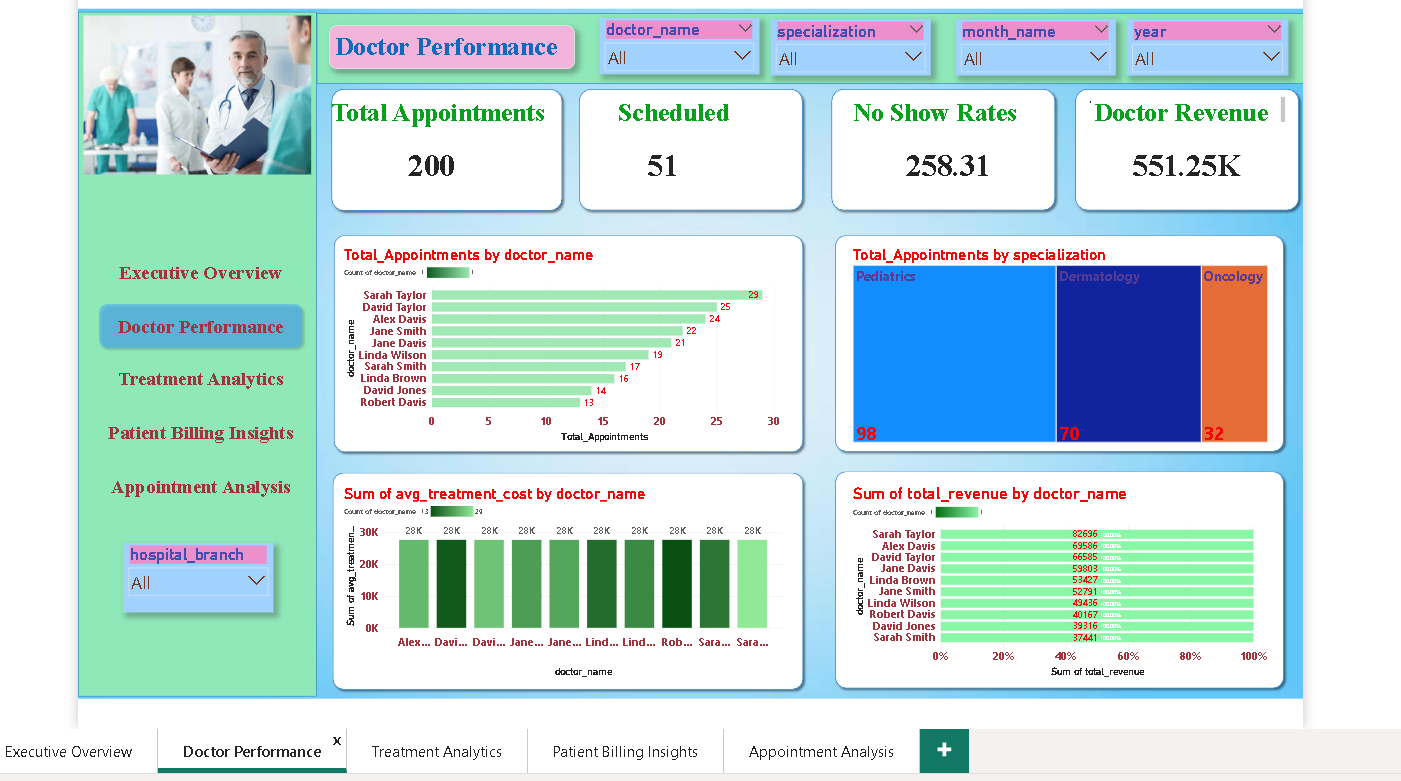

The dashboard page shown, as its layout file describes it:
{"tool":"powerbi","page":{"name":"Doctor Performance","canvas":[2300,1400],"ordinal":1},"visuals":[{"type":"shape","box":[0,53.7,447.7,1285],"z":0},{"type":"actionButton","box":[30.1,491.6,400,100.2],"z":0,"group":"g1"},{"type":"group","id":"g1","title":"Group 1","box":[30.1,491.6,400,500],"z":1000},{"type":"actionButton","box":[30.1,591.8,400,100.2],"z":1000,"group":"g1"},{"type":"shape","box":[468,189.7,450.7,246.3],"z":2000},{"type":"actionButton","box":[30.1,692.1,400,100.2],"z":2000,"group":"g1"},{"type":"shape","box":[1404.6,189.3,437.5,245.6],"z":3000},{"type":"actionButton","box":[30.1,892.6,400,99],"z":3000,"group":"g1"},{"type":"shape","box":[931.3,189.3,437.5,245.6],"z":4000},{"type":"actionButton","box":[30.1,792.3,400,100.2],"z":4000,"group":"g1"},{"type":"shape","box":[1862.5,189.3,437.5,245.6],"z":5000},{"type":"shape","box":[470.7,465.6,898,424.7],"z":6000},{"type":"shape","box":[468.2,910.8,900.6,424.7],"z":7000},{"type":"shape","box":[1412.2,908.2,859.6,424.7],"z":8000},{"type":"shape","box":[1411.3,465.5,859.6,423.6],"z":9000},{"type":"shape","box":[448.3,56.7,1852.2,133],"z":10000},{"type":"textbox","box":[470.4,78.8,460.6,81.3],"z":11000},{"type":"textbox","box":[470.4,209.4,448.3,76.4],"z":12000},{"type":"textbox","box":[1009.9,209.4,275.9,76.4],"z":13000},{"type":"textbox","box":[1450.7,209.4,362.1,76.4],"z":14000},{"type":"textbox","box":[1884.2,209.4,386.7,76.4],"z":15000},{"type":"cardVisual","fields":{"Data":["fact_appointments.Total_Appointments"]},"box":[591.1,285.7,147.8,113.3],"z":16000},{"type":"cardVisual","fields":{"Data":["Sum(agg_doctor_performance.no_show_rate_pct)"]},"box":[1524.6,285.7,238.9,113.3],"z":17000},{"type":"cardVisual","fields":{"Data":["agg_doctor_performance.Doctor_revenue"]},"box":[1948.3,285.7,290.6,113.3],"z":18000},{"type":"cardVisual","fields":{"Data":["Sum(agg_doctor_performance.scheduled)"]},"box":[1039.4,285.7,177.3,113.3],"z":19000},{"type":"barChart","fields":{"Category":["agg_doctor_performance.doctor_name"],"Y":["fact_appointments.Total_Appointments"]},"box":[495.1,492.6,832.5,374.4],"z":20000},{"type":"treemap","fields":{"Group":["fact_appointments.specialization"],"Values":["fact_appointments.Total_Appointments"]},"box":[1450.7,492.6,788.2,374.4],"z":21000},{"type":"columnChart","fields":{"Category":["fact_appointments.doctor_name"],"Y":["Sum(agg_doctor_performance.avg_treatment_cost)"]},"box":[495.1,940.9,832.5,367],"z":22000},{"type":"hundredPercentStackedBarChart","fields":{"Category":["agg_doctor_performance.doctor_name"],"Y":["Sum(agg_doctor_performance.total_revenue)"]},"box":[1450.7,940.9,788.2,367],"z":23000},{"type":"slicer","fields":{"Values":["dim_doctors.hospital_branch"]},"box":[84.6,1051.2,282.7,130.5],"z":24000},{"type":"slicer","fields":{"Values":["dim_date.year"]},"box":[1968,69,303,105.9],"z":25000},{"type":"slicer","fields":{"Values":["dim_date.month_name"]},"box":[1647.8,69,300.5,105.9],"z":26000},{"type":"slicer","fields":{"Values":["agg_doctor_performance.doctor_name"]},"box":[977.8,66.5,300.5,105.9],"z":27000},{"type":"slicer","fields":{"Values":["agg_doctor_performance.specialization"]},"box":[1300.5,69,300.5,105.9],"z":28000},{"type":"image","box":[0,61.6,448.3,298],"z":29000}]}

Visuals, with their boxes on the page's 2300x1400 design canvas (x1, y1, x2, y2). These are canvas units, not pixel positions in the 1401x781 screenshot, which may show the page scaled, cropped or inside an application window:
shape: bbox=[0, 54, 448, 1339]
actionButton: bbox=[30, 492, 430, 592]
"Group 1" group: bbox=[30, 492, 430, 992]
actionButton: bbox=[30, 592, 430, 692]
shape: bbox=[468, 190, 919, 436]
actionButton: bbox=[30, 692, 430, 792]
shape: bbox=[1405, 189, 1842, 435]
actionButton: bbox=[30, 893, 430, 992]
shape: bbox=[931, 189, 1369, 435]
actionButton: bbox=[30, 792, 430, 892]
shape: bbox=[1862, 189, 2300, 435]
shape: bbox=[471, 466, 1369, 890]
shape: bbox=[468, 911, 1369, 1336]
shape: bbox=[1412, 908, 2272, 1333]
shape: bbox=[1411, 466, 2271, 889]
shape: bbox=[448, 57, 2300, 190]
textbox: bbox=[470, 79, 931, 160]
textbox: bbox=[470, 209, 919, 286]
textbox: bbox=[1010, 209, 1286, 286]
textbox: bbox=[1451, 209, 1813, 286]
textbox: bbox=[1884, 209, 2271, 286]
cardVisual - fact_appointments.Total_Appointments: bbox=[591, 286, 739, 399]
cardVisual - Sum(agg_doctor_performance.no_show_rate_pct): bbox=[1525, 286, 1764, 399]
cardVisual - agg_doctor_performance.Doctor_revenue: bbox=[1948, 286, 2239, 399]
cardVisual - Sum(agg_doctor_performance.scheduled): bbox=[1039, 286, 1217, 399]
barChart - agg_doctor_performance.doctor_name x fact_appointments.Total_Appointments: bbox=[495, 493, 1328, 867]
treemap - fact_appointments.specialization x fact_appointments.Total_Appointments: bbox=[1451, 493, 2239, 867]
columnChart - fact_appointments.doctor_name x Sum(agg_doctor_performance.avg_treatment_cost): bbox=[495, 941, 1328, 1308]
hundredPercentStackedBarChart - agg_doctor_performance.doctor_name x Sum(agg_doctor_performance.total_revenue): bbox=[1451, 941, 2239, 1308]
slicer - dim_doctors.hospital_branch: bbox=[85, 1051, 367, 1182]
slicer - dim_date.year: bbox=[1968, 69, 2271, 175]
slicer - dim_date.month_name: bbox=[1648, 69, 1948, 175]
slicer - agg_doctor_performance.doctor_name: bbox=[978, 66, 1278, 172]
slicer - agg_doctor_performance.specialization: bbox=[1300, 69, 1601, 175]
image: bbox=[0, 62, 448, 360]
